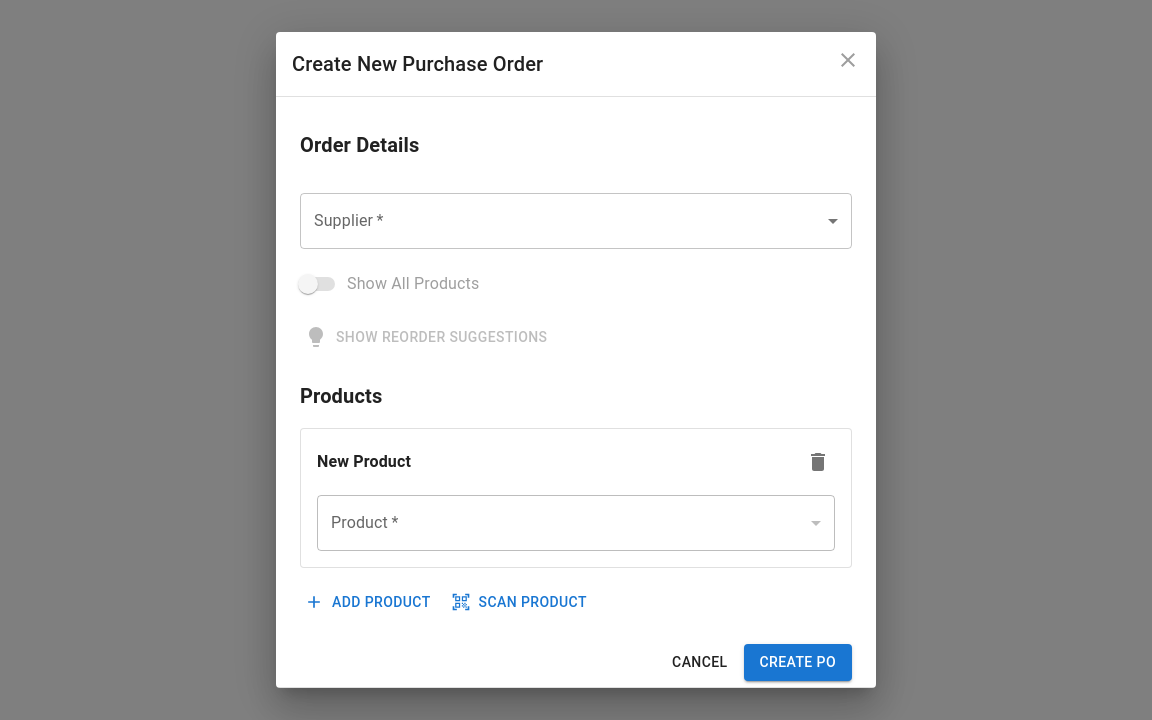
AddEditPOForm › should add products with sizes when a product with a size profile is selected
Note: Select a supplier
Step 1. Press the mouse on the dropdown next to "Supplier" → point(576, 221), box [300,193,852,249]
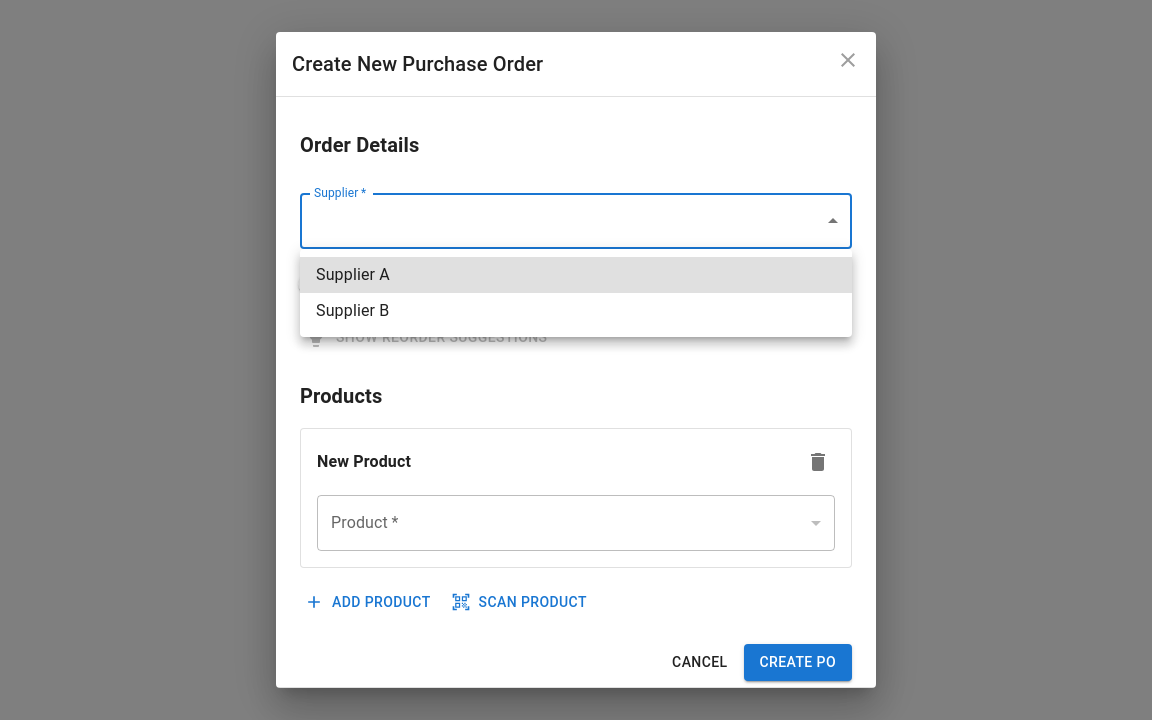
Step 2. Click the option "Supplier A" → point(353, 274), box [300,257,852,293]
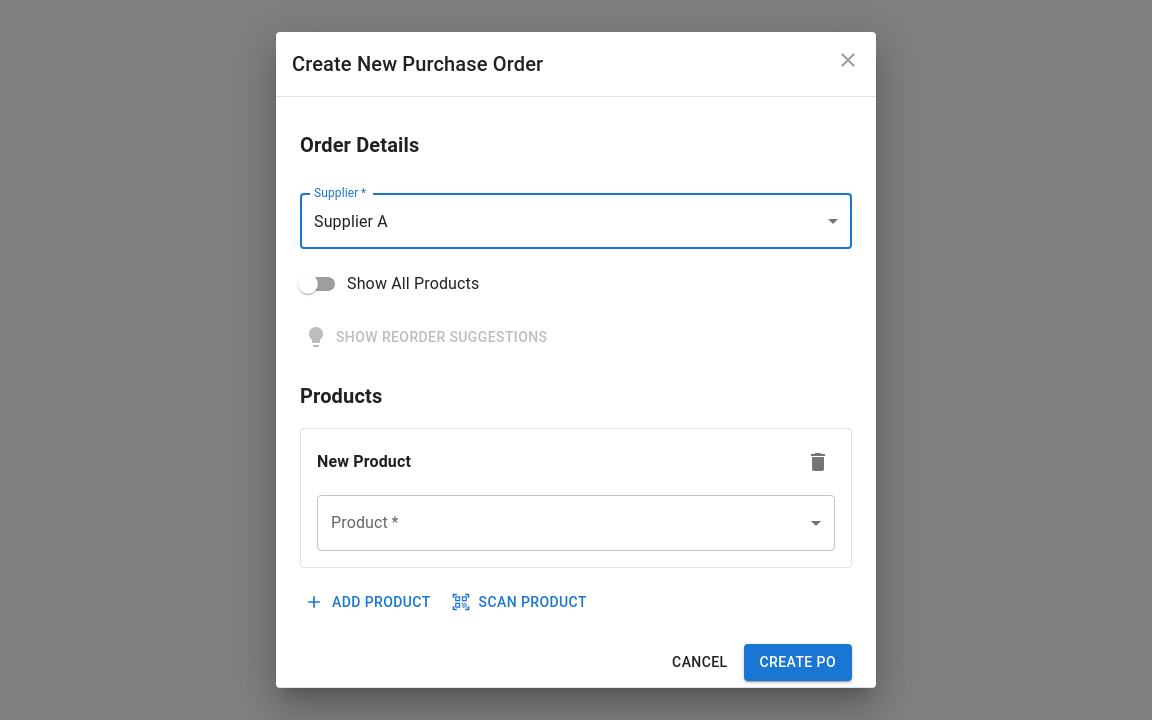
Expected: the 2nd dropdown is enabled
Note: Select the product with the size profile
Step 3. Press the mouse on the 2nd dropdown → point(576, 522), box [317,494,835,550]
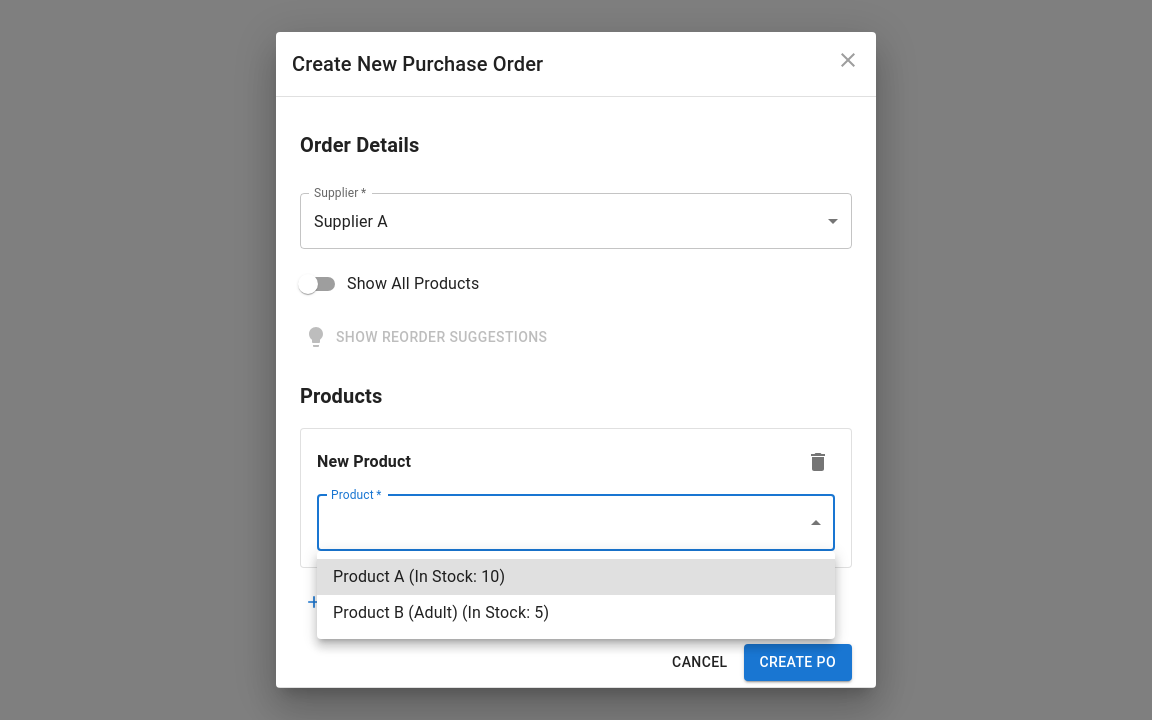
Step 4. Click the option "Product B (Adult) (In Stock: 5)" → point(441, 612), box [333,603,549,622]
(page scrolled)
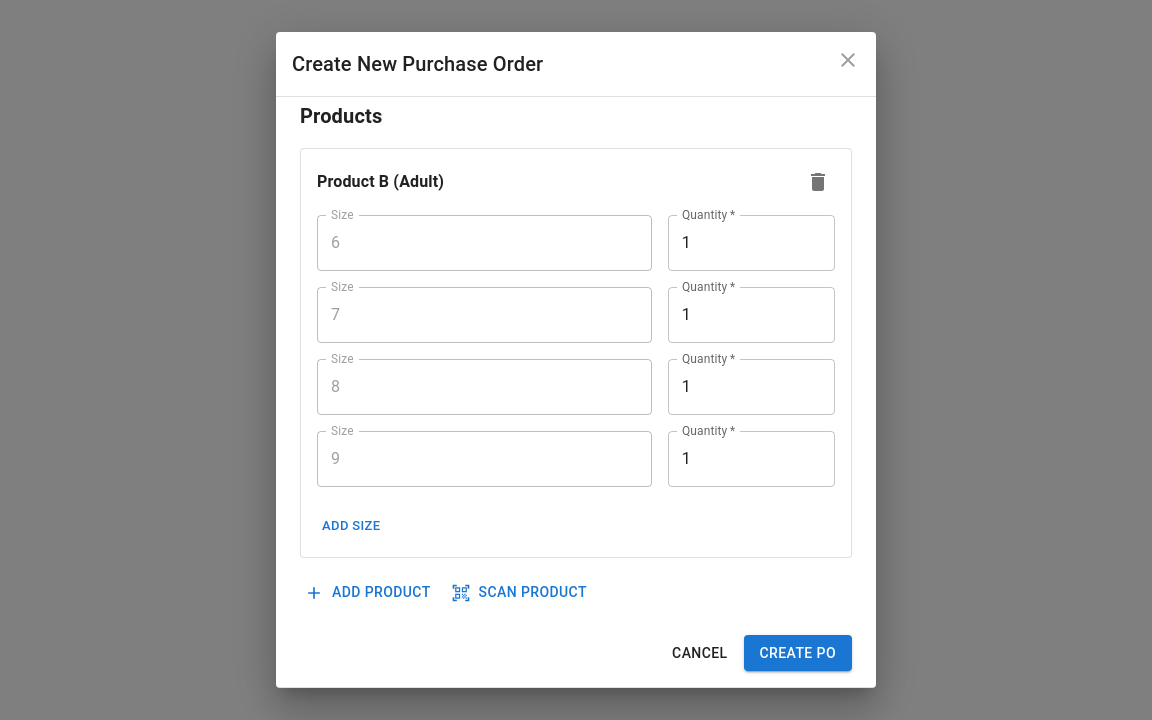
Expected: the number of fields labelled "Size" is 4, [317,214,652,270]; [317,286,652,342]; [317,358,652,414]; [317,430,652,486]
Expected: the number of number fields labelled "Quantity *" is 4, [668,214,835,270]; [668,286,835,342]; [668,358,835,414]; [668,430,835,486]
Expected: the 1st number field labelled "Quantity *" holds "1", [668,214,835,270]
